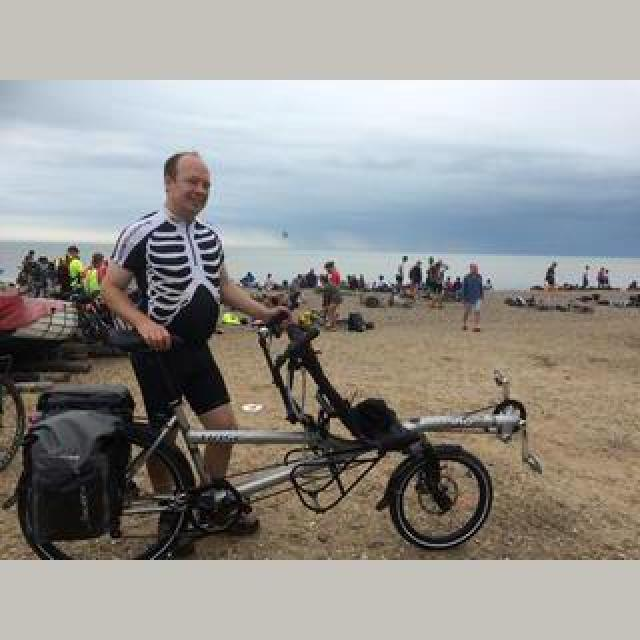MC-Bike: (98, 150, 298, 540)
Person: (16, 324, 500, 558)
